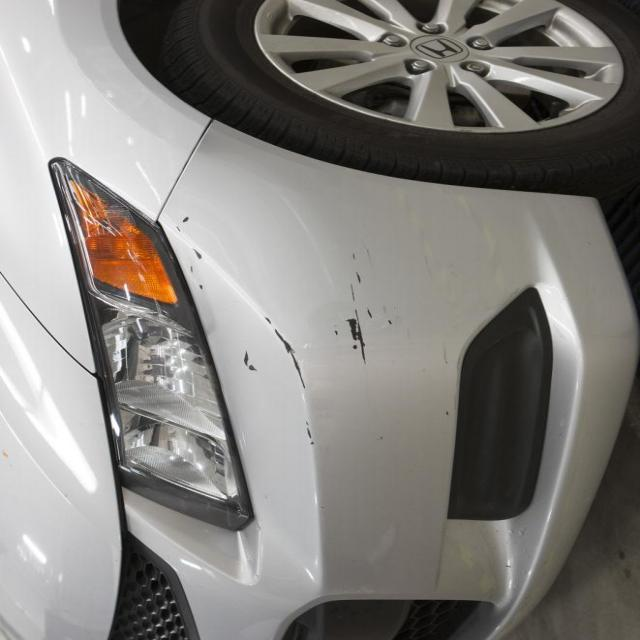scratch: (130, 199, 428, 422)
